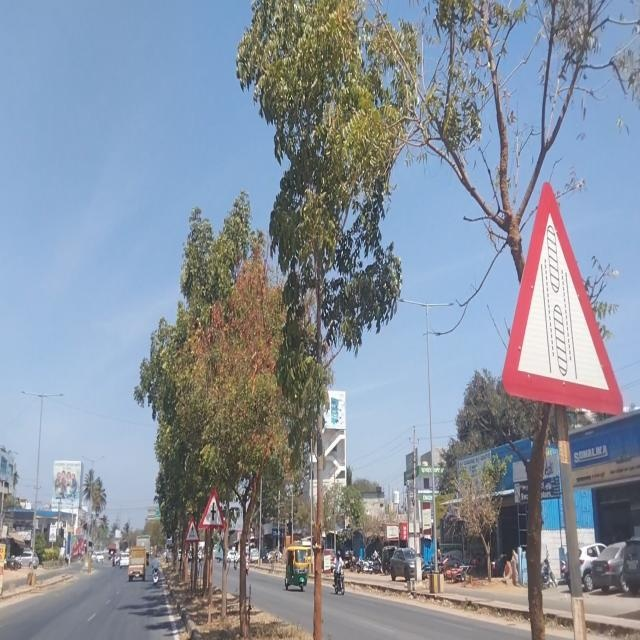bien_nguy_hiem: (501, 176, 628, 414), (199, 490, 226, 531), (184, 516, 199, 545)
